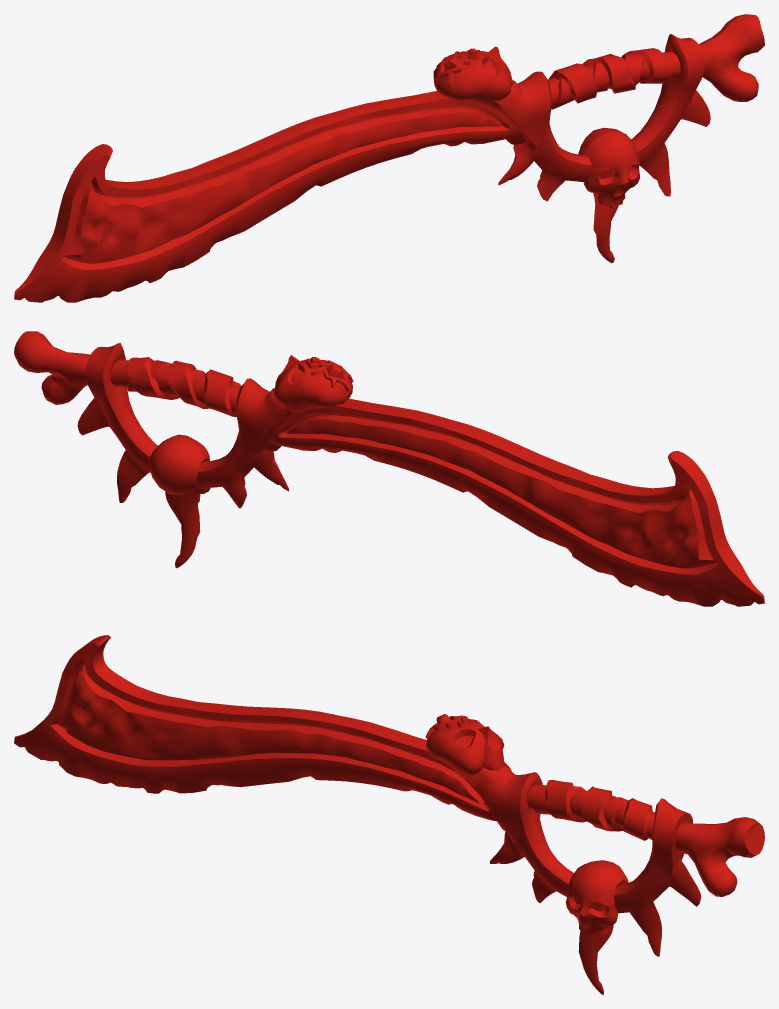
File: undead_sword.obj
The picture shows the model from 3 angles, top to bottom: view 1: azimuth 30°, elevation 25°; view 2: azimuth 150°, elevation 25°; view 3: azimuth 330°, elevation 25°; orthographic projection.
Visible parts, largest first — view 1: SM_Undead_Sword_1; view 2: SM_Undead_Sword_1; view 3: SM_Undead_Sword_1.
Part boxes in pixels (<box>): SM_Undead_Sword_1: <box>14,14,764,302</box>; SM_Undead_Sword_1: <box>14,331,764,606</box>; SM_Undead_Sword_1: <box>14,635,764,994</box>.
Bounding box in the file's own units: 1.26 × 0.3973 × 0.1022.
